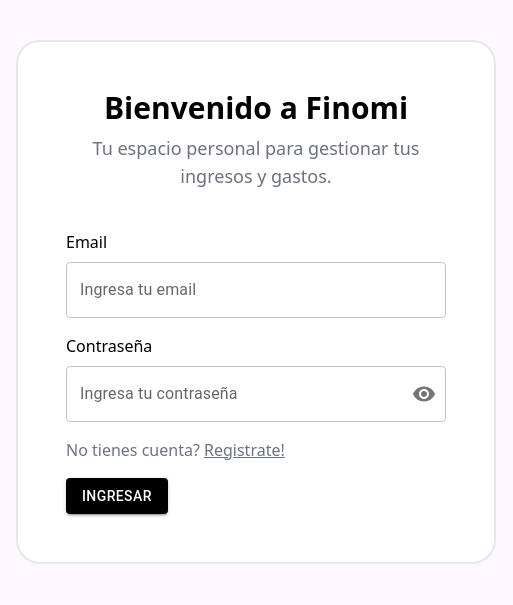
CP-007 Login: empty form › Invalid form: empty
Click the button with id "login-button" at (117, 497), box [66,478,168,515]
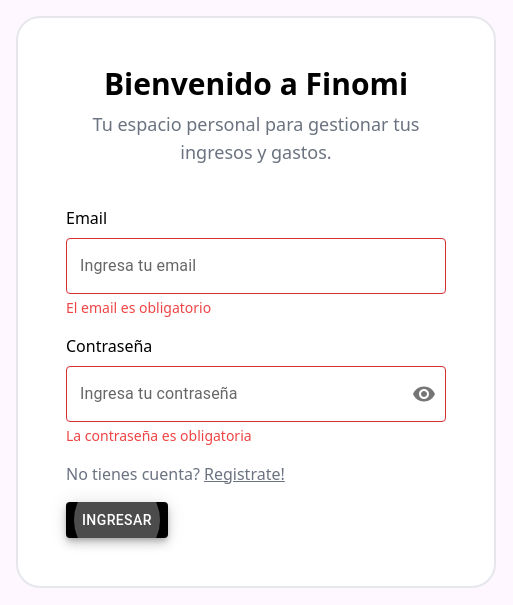
Result: the text "El email es obligatorio" is shown at [66,298,211,317]
Result: the text "La contraseña es obligatoria" is shown at [66,426,252,445]
